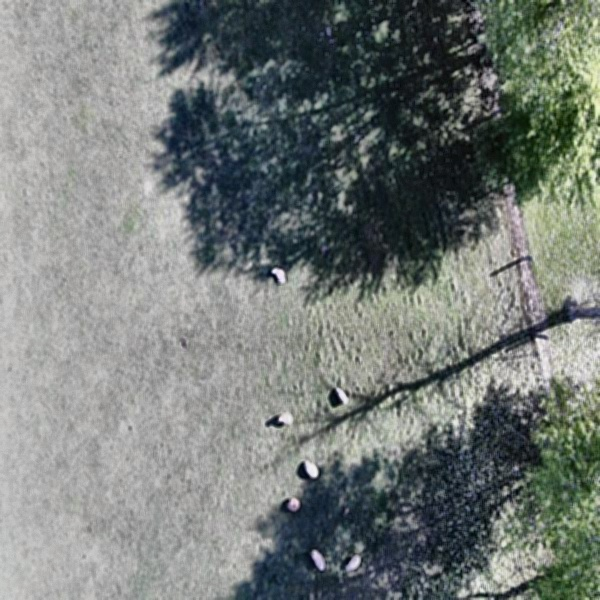sheep: (331, 375, 354, 422), (269, 258, 291, 305), (270, 409, 300, 440), (340, 542, 363, 582), (305, 539, 327, 580), (300, 449, 324, 485), (281, 486, 304, 522)
